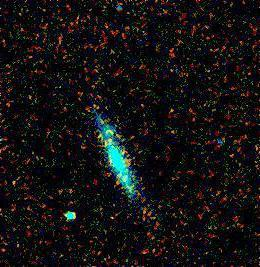star: (95, 115, 125, 145)
